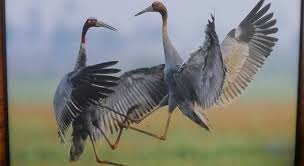seu_dau_do: (131, 1, 277, 139), (52, 16, 161, 161)
